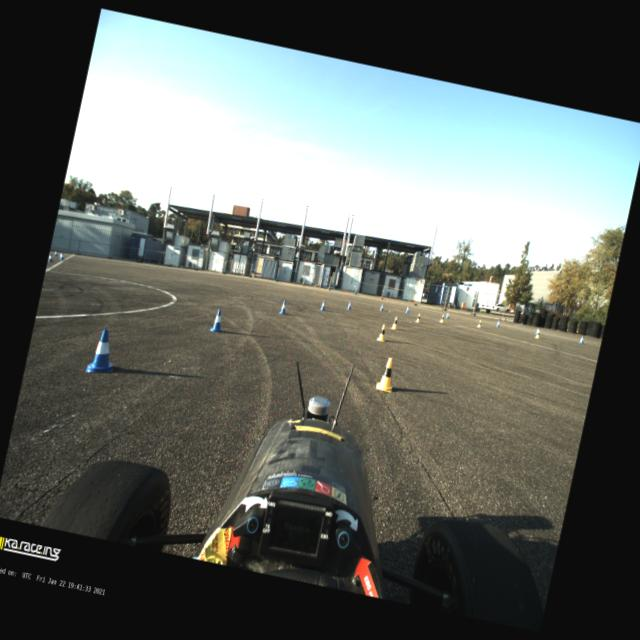blue_cone: (85, 326, 120, 377), (209, 307, 226, 333), (279, 300, 288, 314), (318, 299, 326, 310), (378, 302, 384, 312), (346, 300, 352, 309), (404, 306, 410, 314), (578, 336, 584, 344), (534, 326, 540, 334), (495, 320, 500, 328), (445, 312, 449, 318)
yellow_cone: (374, 356, 398, 392), (375, 324, 387, 342), (389, 316, 398, 330), (476, 318, 482, 328), (414, 312, 420, 322), (534, 329, 540, 338), (438, 314, 444, 322)
